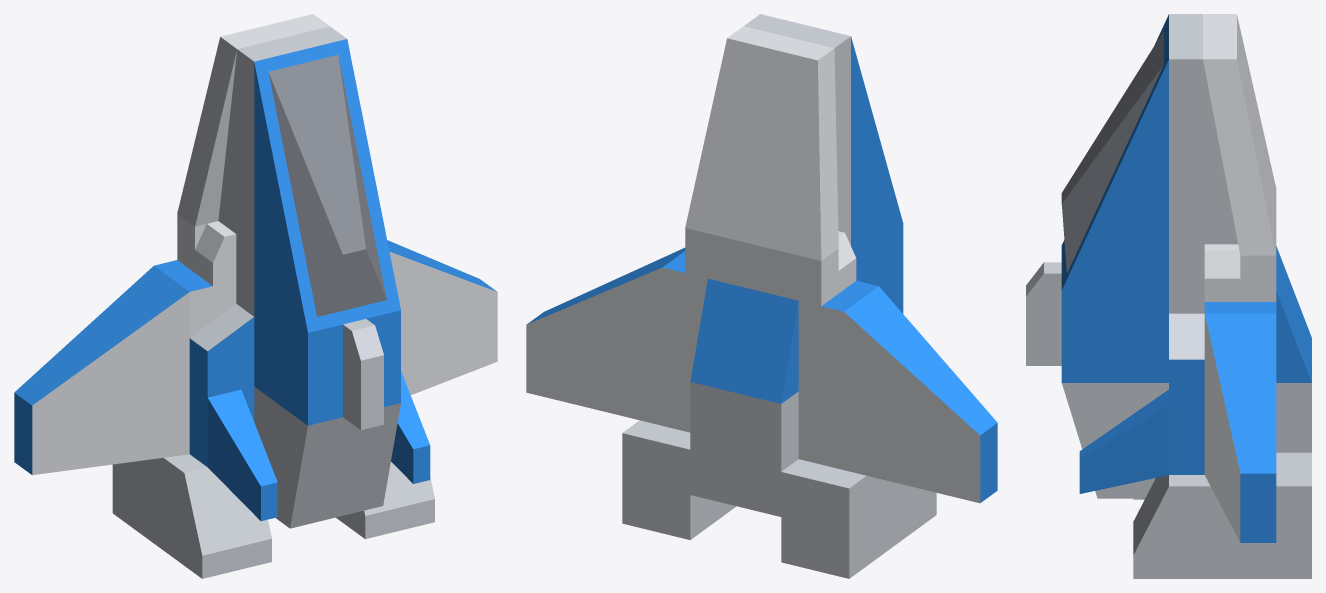
File: craft_speederB.glb
The picture shows the model from 3 angles, left to right: view 1: azimuth 30°, elevation 25°; view 2: azimuth 150°, elevation 25°; view 3: azimuth 270°, elevation 25°; orthographic projection. The views are drawn at different scales.
Visible parts, largest first — view 1: craft_speederA; view 2: craft_speederA; view 3: craft_speederA.
Boxes of the visible parts, box(x1,y1,x2,y2) form: craft_speederA: box(14, 14, 497, 578); craft_speederA: box(526, 14, 997, 578); craft_speederA: box(1026, 14, 1311, 578).
Size of the model in its own units: 1.5 by 1.5 by 0.8.
